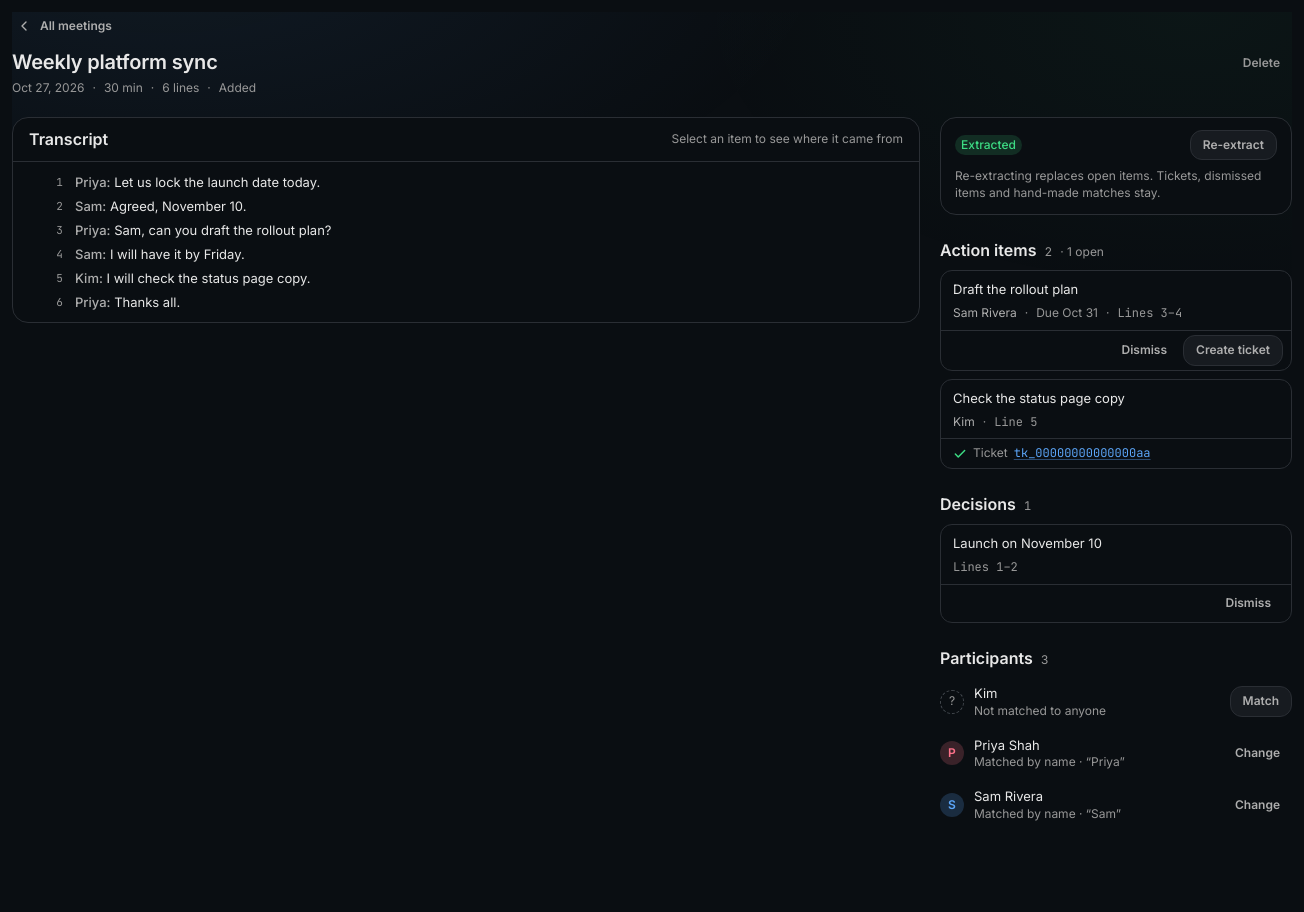
Test: MeetingDetailView › links to AI key settings when no key is set up
The width and height of the screenshot is (1304, 912).
Click the button "Re-extract" at (1233, 145), box [1190, 130, 1277, 160]
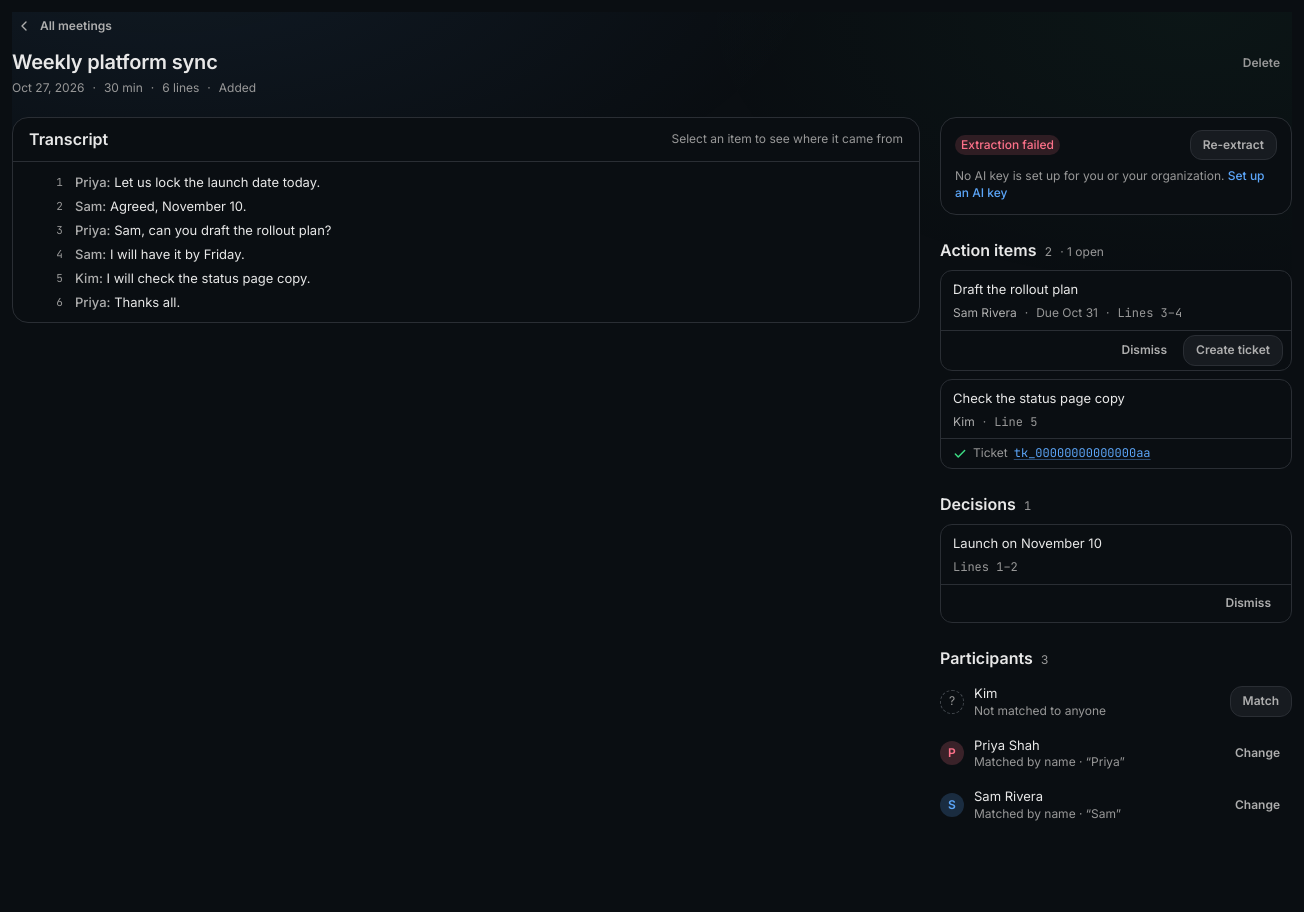
Result: the text "No AI key is set up for you or your organization. Set up an AI key" is shown at [955, 168, 1277, 202]
